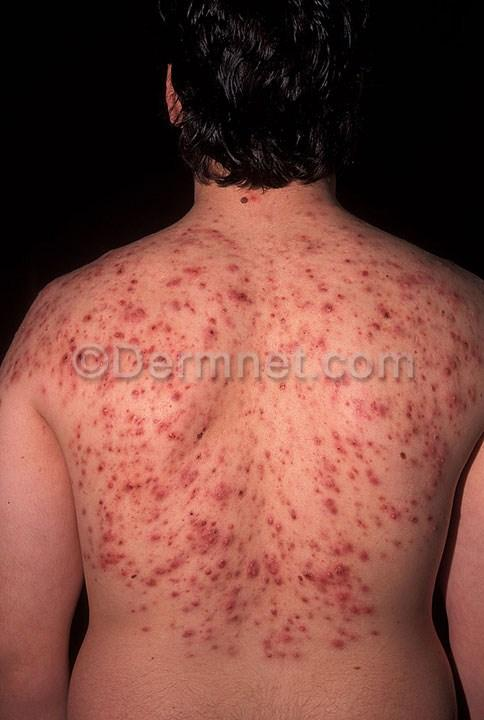Acne: (251, 451, 386, 640), (187, 345, 368, 481), (111, 509, 257, 660), (315, 265, 449, 414), (35, 289, 173, 409), (99, 413, 213, 554), (159, 247, 266, 325)
